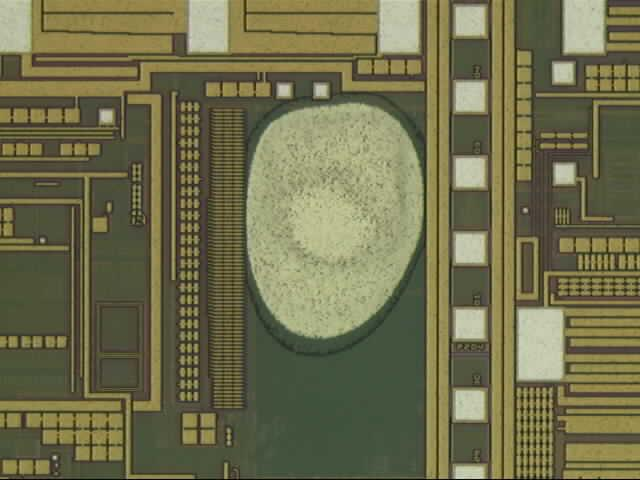BLOCK ETCH: (240, 91, 431, 356)
